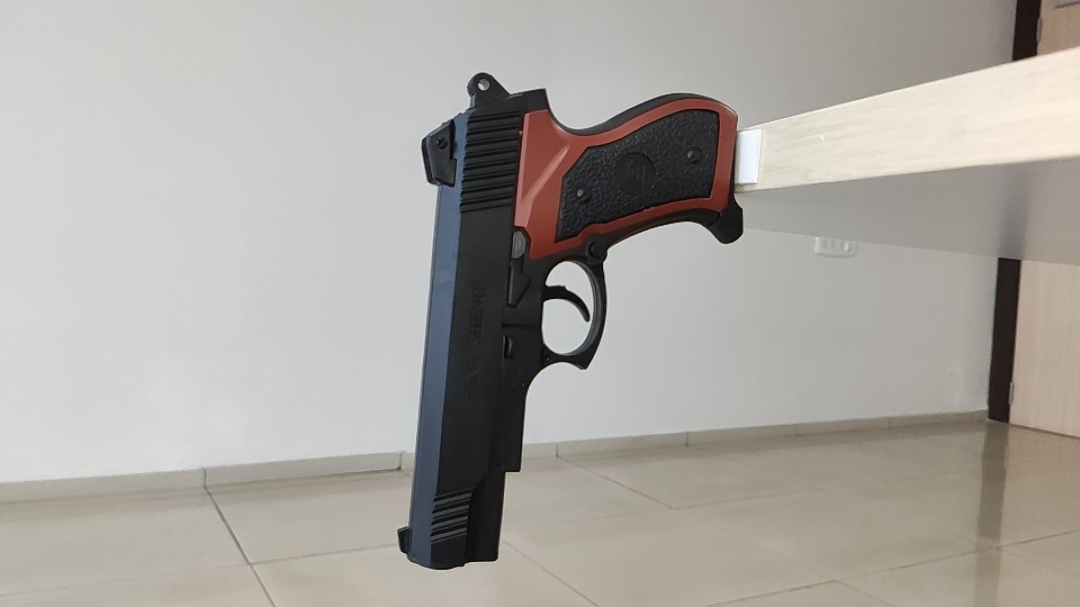gun: (324, 237, 443, 375)
